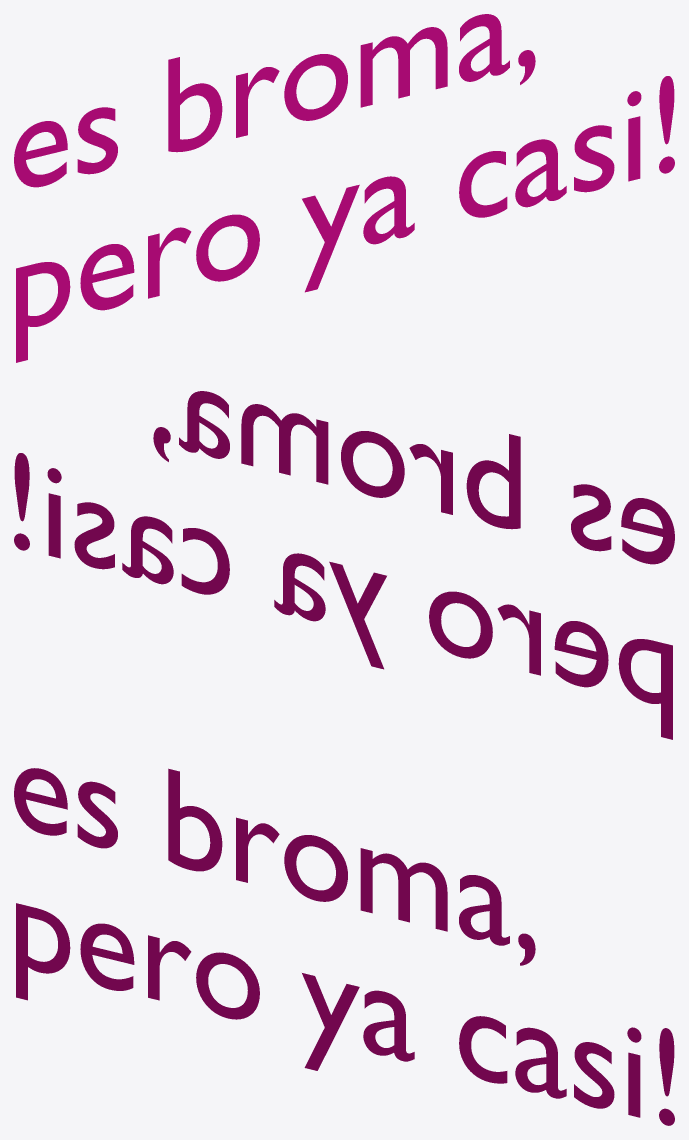
File: casi.fbx
The picture shows the model from 3 angles, top to bottom: view 1: azimuth 30°, elevation 25°; view 2: azimuth 150°, elevation 25°; view 3: azimuth 330°, elevation 25°; orthographic projection.
Parts seen in each view (by area): view 1: Text.001; view 2: Text.001; view 3: Text.001.
Boxes of the visible parts, bbox=[...] form: Text.001: bbox=[14, 14, 674, 362]; Text.001: bbox=[14, 391, 674, 739]; Text.001: bbox=[14, 768, 674, 1125].
Bounding box in the file's own units: 497 × 191 × 3.12e-05.
